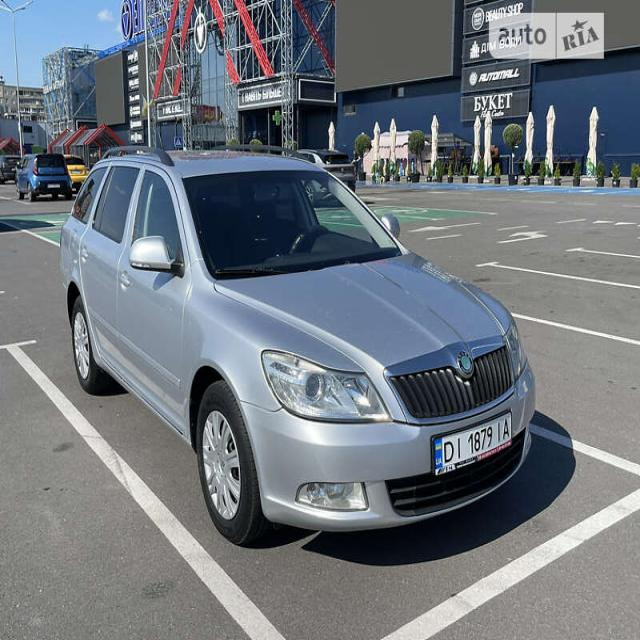plate: (431, 407, 525, 480)
